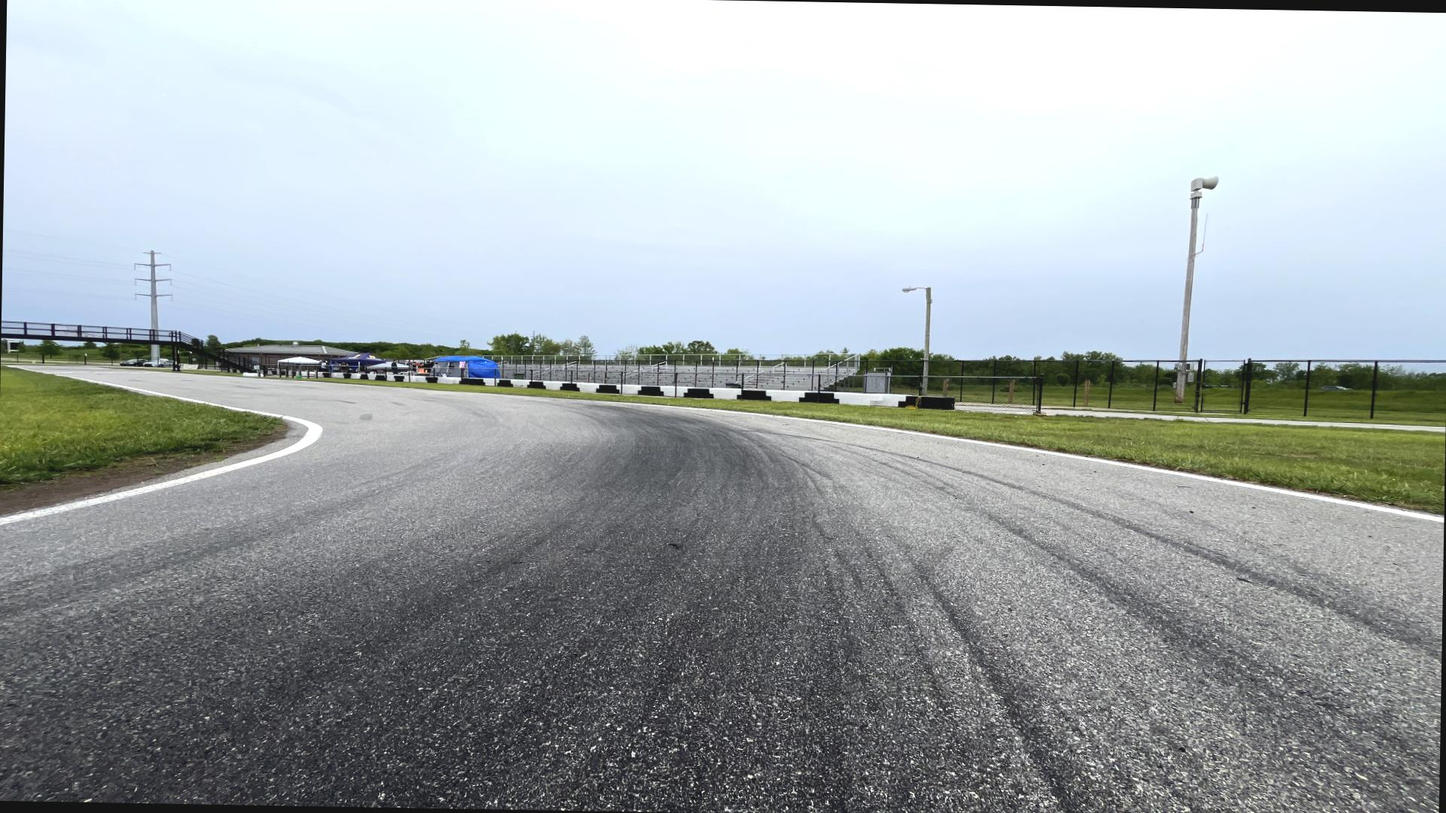white-line: (598, 401, 1444, 522), (0, 373, 322, 526)
